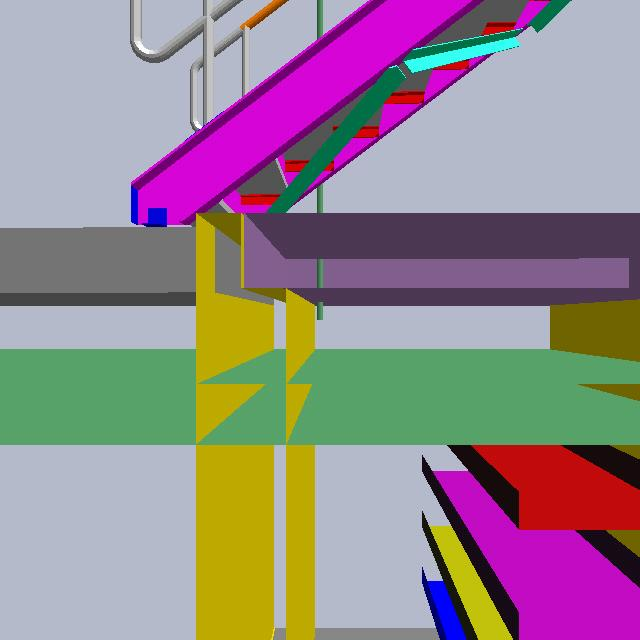Poste: (309, 1, 330, 330)
